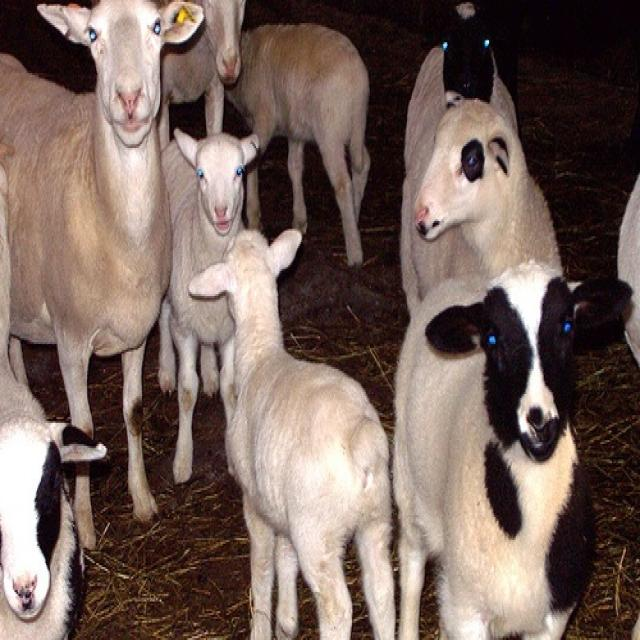sheep: (0, 0, 204, 550), (394, 263, 634, 638), (186, 229, 394, 638), (222, 21, 372, 269), (396, 94, 564, 315), (159, 127, 260, 482), (4, 381, 107, 638), (160, 2, 246, 134)
